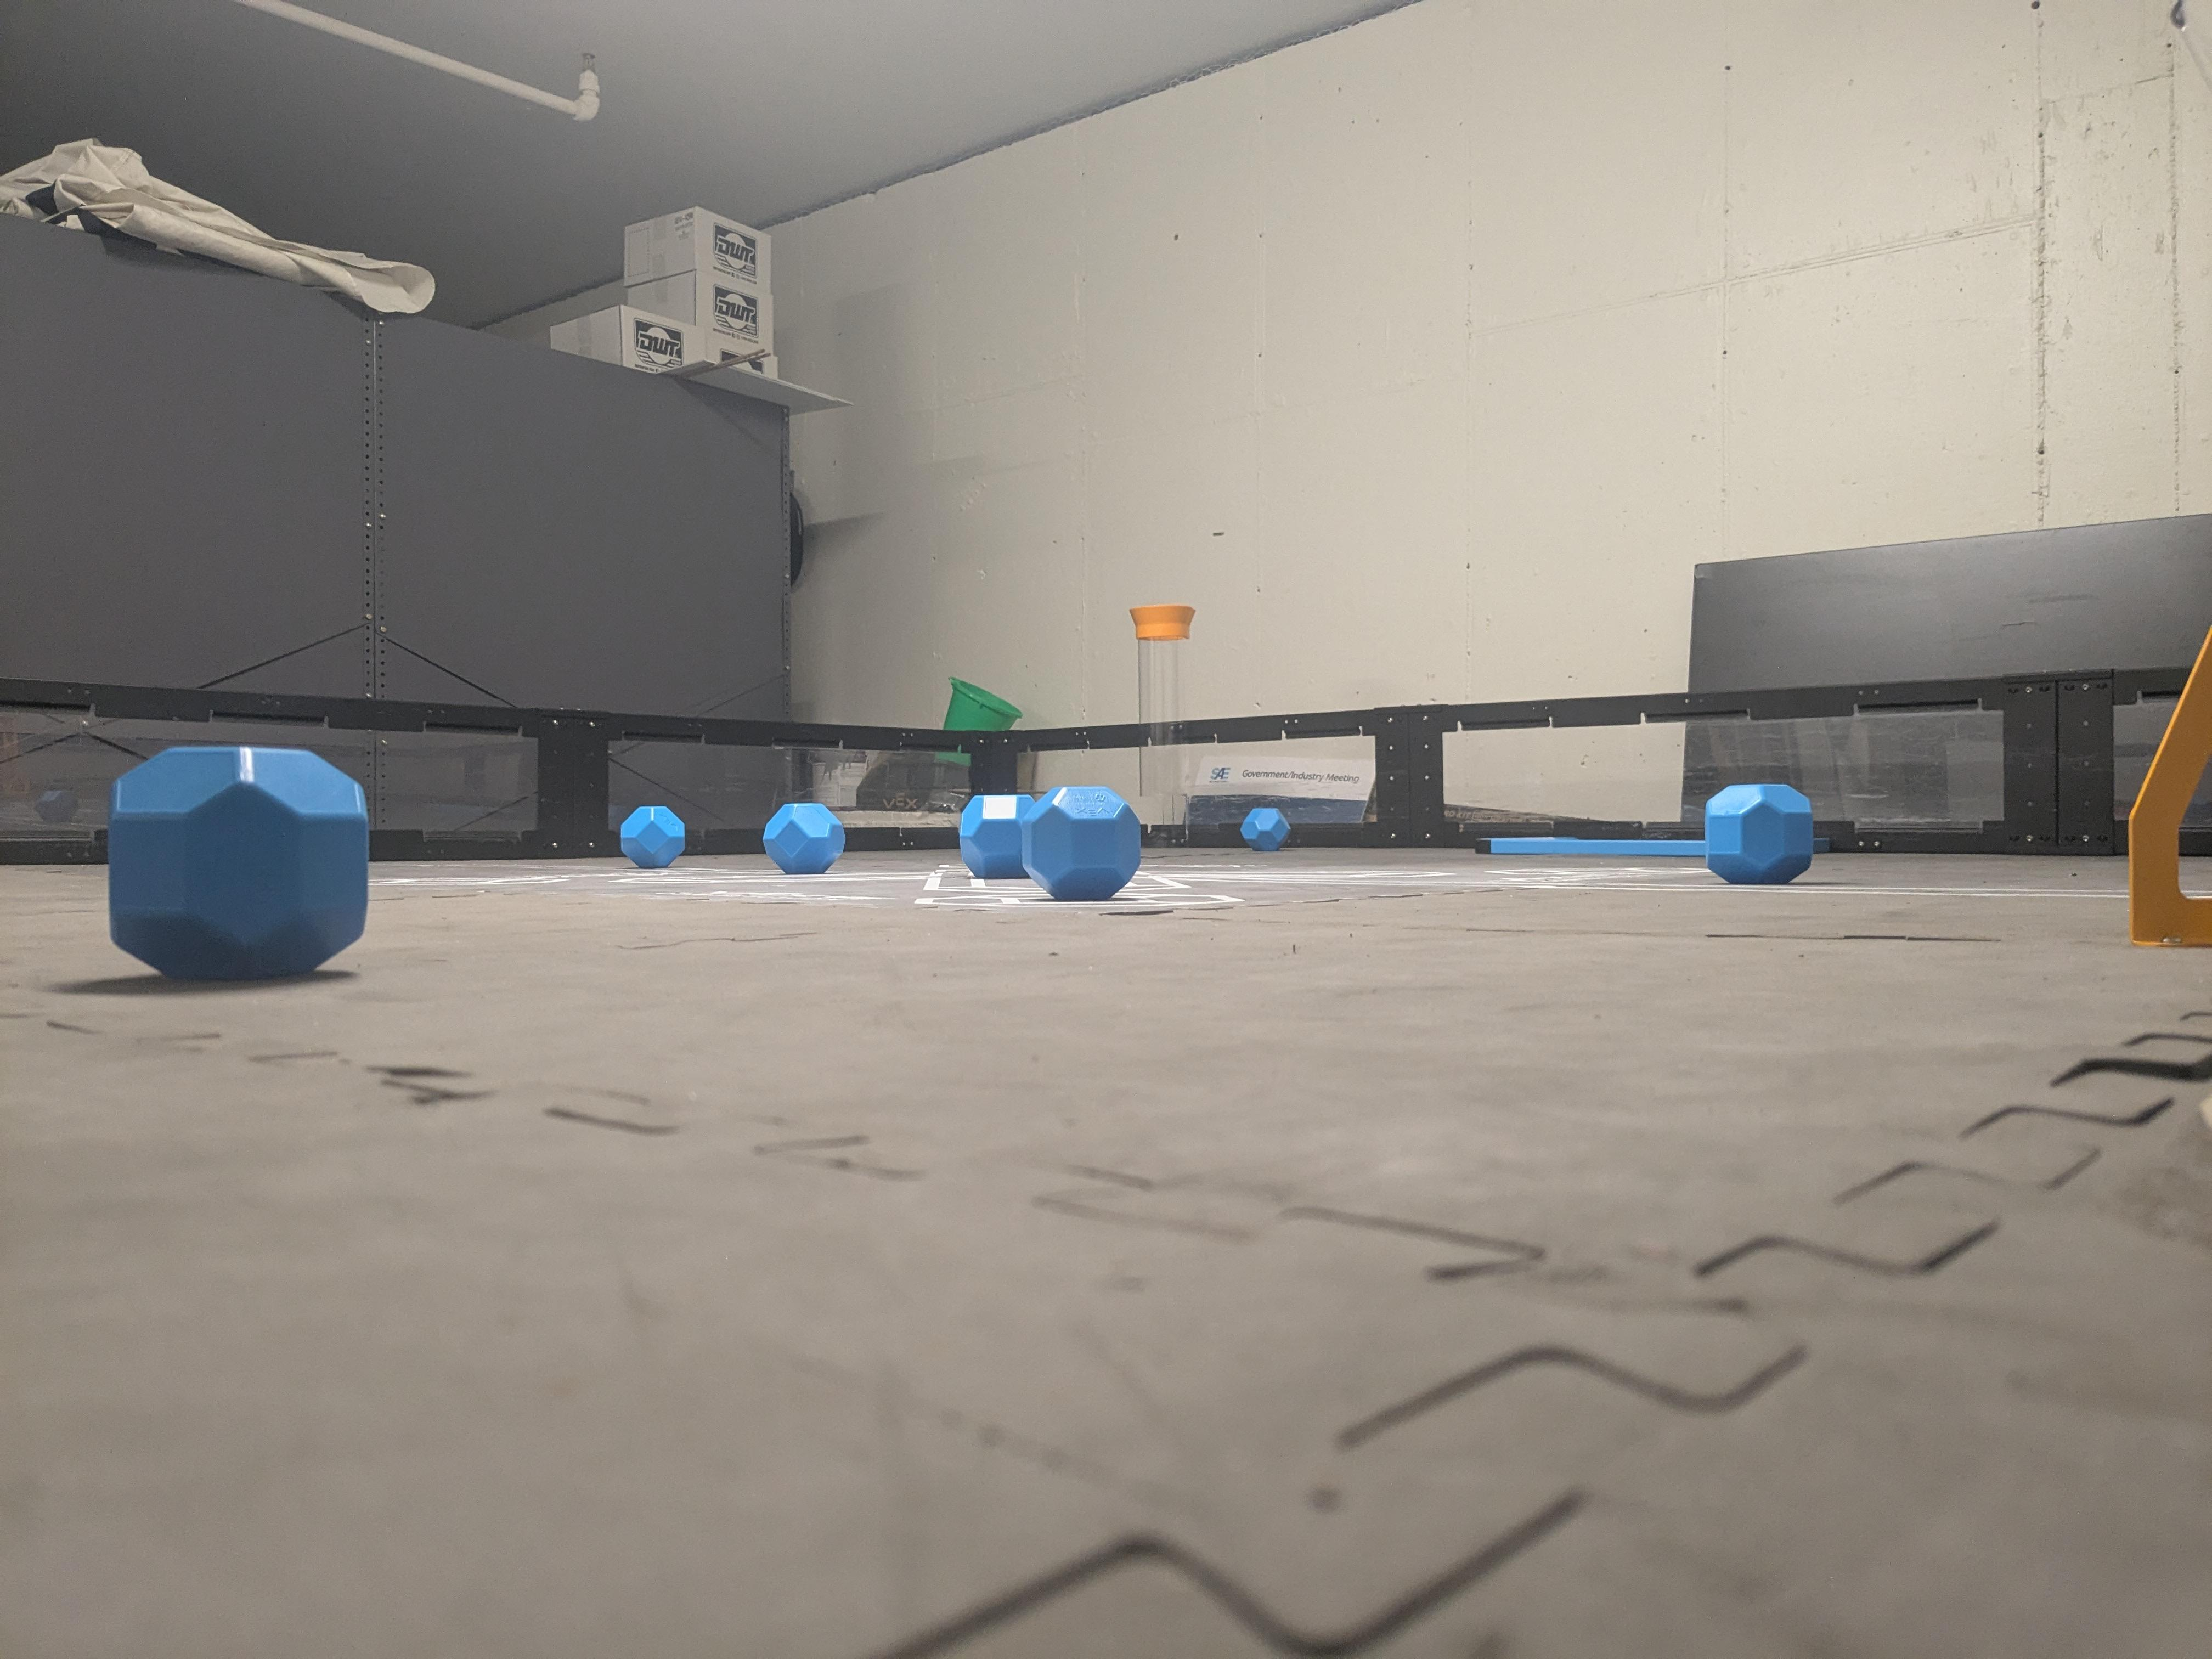Vex-Pieces-BLUE: (110, 746, 369, 981), (961, 788, 1141, 899), (1707, 782, 1815, 880), (761, 803, 840, 870), (618, 809, 686, 868), (1240, 807, 1291, 852)
